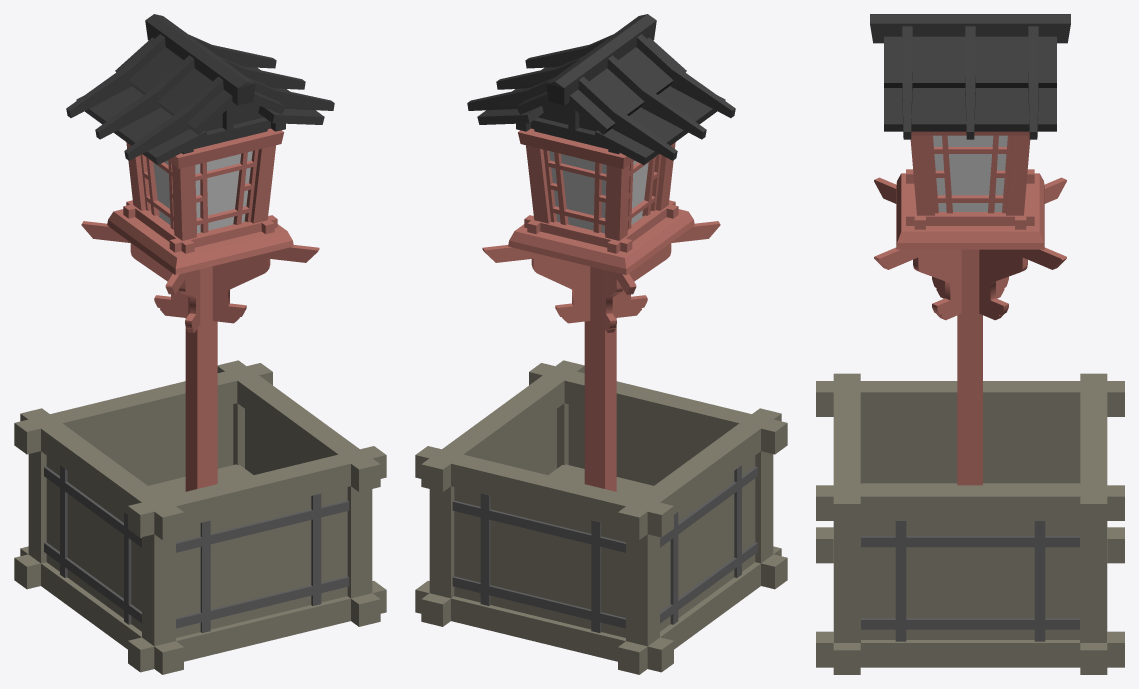
File: Light.fbx
3 views of the same model, side by side, from view 1: azimuth 30°, elevation 25°; view 2: azimuth 150°, elevation 25°; view 3: azimuth 270°, elevation 25° (orthographic). The views are drawn at different scales.
Visible parts, largest first — view 1: pCube63, pCube67, pCube61; view 2: pCube63, pCube67, pCube61; view 3: pCube63, pCube67, pCube61.
Boxes of the visible parts, x1,y1,x2,y2 form: pCube63: [14, 360, 386, 674]; pCube67: [81, 128, 319, 491]; pCube61: [66, 14, 334, 164]; pCube63: [415, 360, 787, 674]; pCube67: [482, 128, 720, 491]; pCube61: [467, 14, 735, 164]; pCube63: [816, 373, 1124, 674]; pCube67: [874, 131, 1066, 485]; pCube61: [870, 14, 1070, 139].
Bounding box in the file's own units: 391 × 833 × 391.
